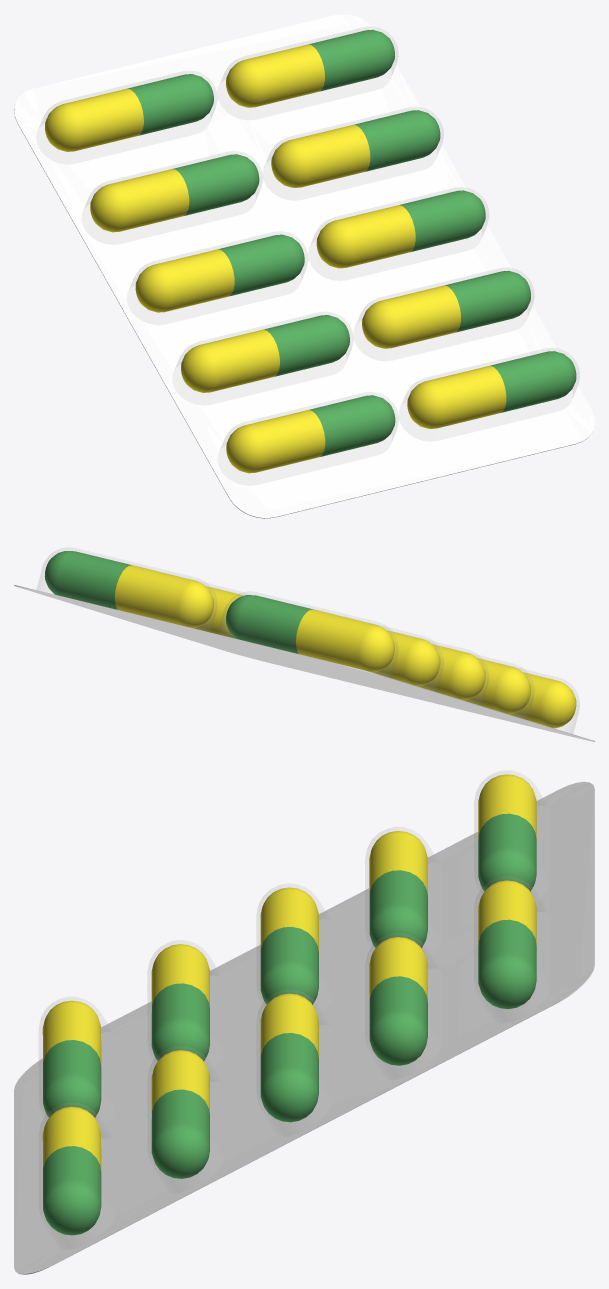
The picture shows the model from 3 angles, top to bottom: view 1: azimuth 30°, elevation 25°; view 2: azimuth 150°, elevation 25°; view 3: azimuth 270°, elevation 25°; orthographic projection. The views are drawn at different scales.
Parts seen in each view (by area): view 1: BRep_11, BRep_10, BRep_1, BRep_3, BRep_4, BRep_6, BRep_5, BRep_2, BRep_7, BRep_8, BRep_9, BRep_12; view 2: BRep_8, BRep_6, BRep_11, BRep_12, BRep_1, BRep_3, BRep_7, BRep_4, BRep_2; view 3: BRep_11, BRep_12, BRep_10, BRep_6, BRep_2, BRep_5, BRep_9, BRep_8, BRep_1, BRep_4, BRep_7, BRep_3.
Boxes of the visible parts, <box> form: BRep_11: <box>14,14,594,518</box>; BRep_10: <box>316,190,485,268</box>; BRep_1: <box>135,234,304,312</box>; BRep_3: <box>226,395,395,473</box>; BRep_4: <box>90,154,259,232</box>; BRep_6: <box>226,30,394,107</box>; BRep_5: <box>362,270,530,348</box>; BRep_2: <box>271,110,440,187</box>; BRep_7: <box>181,315,349,392</box>; BRep_8: <box>45,74,213,151</box>; BRep_9: <box>407,351,576,428</box>; BRep_12: <box>39,26,579,449</box>; BRep_8: <box>226,595,394,672</box>; BRep_6: <box>44,551,213,628</box>; BRep_11: <box>14,585,594,741</box>; BRep_12: <box>37,547,579,733</box>; BRep_1: <box>418,644,485,700</box>; BRep_3: <box>509,672,576,728</box>; BRep_7: <box>463,658,530,714</box>; BRep_4: <box>373,630,440,686</box>; BRep_2: <box>194,586,243,638</box>; BRep_11: <box>14,781,594,1274</box>; BRep_12: <box>38,771,549,1244</box>; BRep_10: <box>260,993,318,1122</box>; BRep_6: <box>478,880,536,1009</box>; BRep_2: <box>369,937,427,1065</box>; BRep_5: <box>151,1050,209,1178</box>; BRep_9: <box>42,1106,101,1235</box>; BRep_8: <box>478,774,536,891</box>; BRep_1: <box>260,887,318,1004</box>; BRep_4: <box>369,831,427,947</box>; BRep_7: <box>151,944,209,1061</box>; BRep_3: <box>42,1000,101,1117</box>.
Bounding box in the file's own units: 60 × 41.93 × 69.45.
